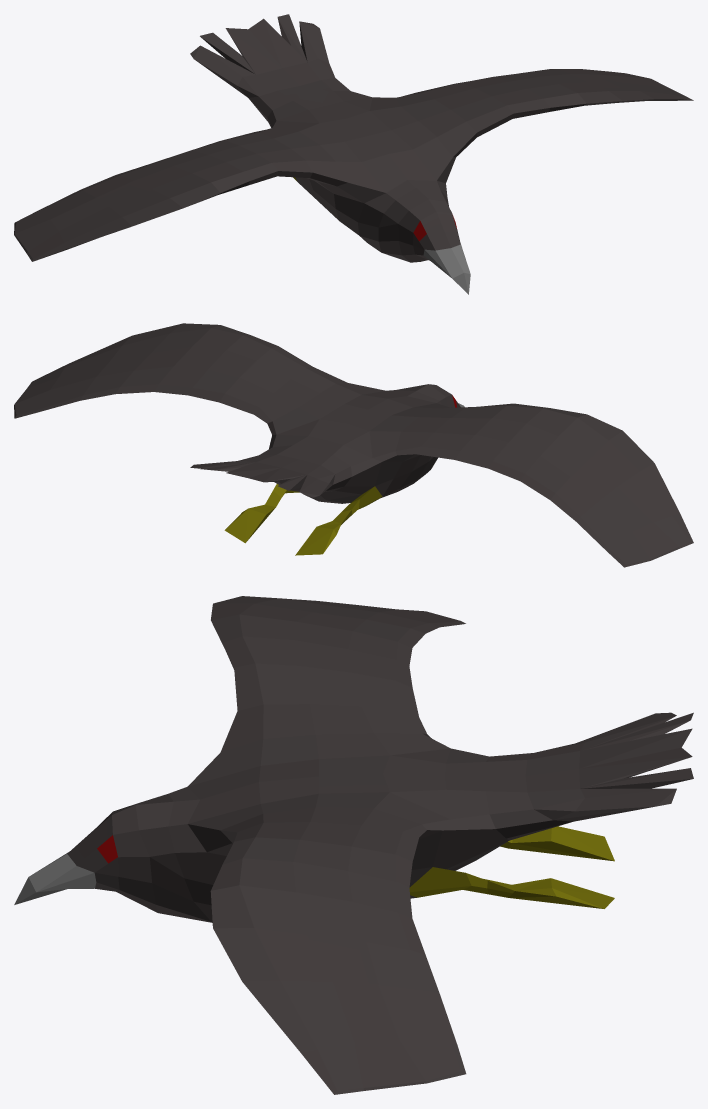
The model's file is Raven.glb.
3 renders of one model, top to bottom at view 1: azimuth 30°, elevation 25°; view 2: azimuth 150°, elevation 25°; view 3: azimuth 270°, elevation 25°, orthographic. The views are drawn at different scales.
Parts seen in each view (by area): view 1: Bird; view 2: Bird; view 3: Bird.
Boxes of the visible parts, x1=… form: Bird: x1=14, y1=14, x2=693, y2=294; Bird: x1=14, y1=323, x2=693, y2=567; Bird: x1=14, y1=596, x2=693, y2=1094.
Size of the model in its own units: 9.15 by 1.51 by 5.38.
